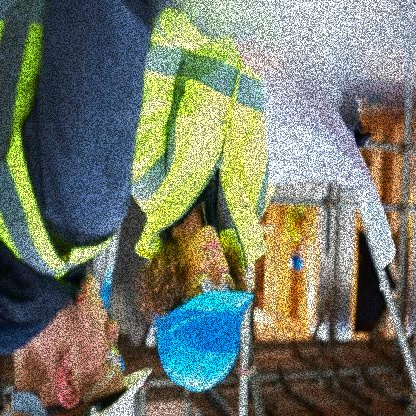blue: (152, 284, 259, 396)
vest: (5, 8, 131, 284), (128, 14, 287, 226)
